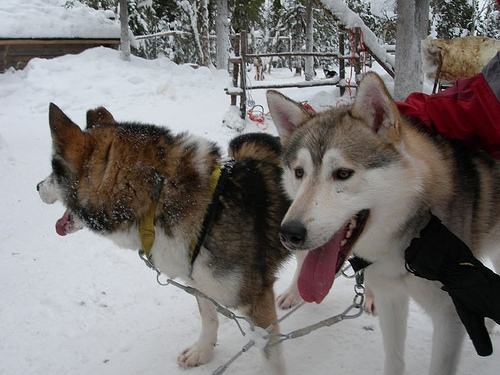dog: (34, 100, 294, 372), (265, 72, 499, 374)
